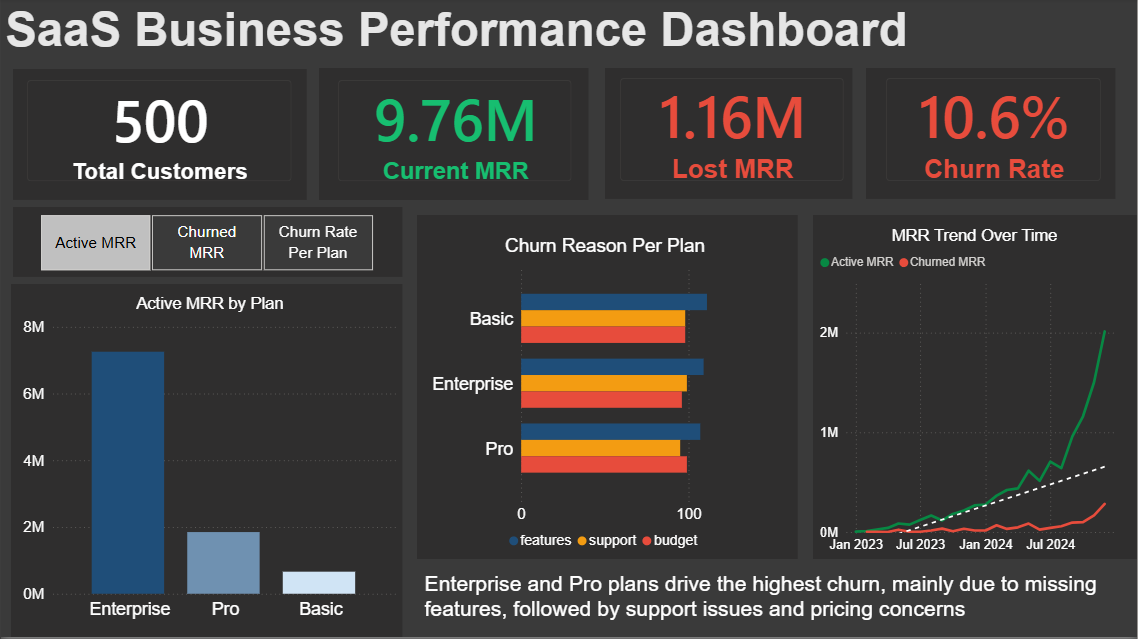

The dashboard page shown, as its layout file describes it:
{"tool":"powerbi","page":{"name":"SaaS Dashboard","canvas":[1280,720],"ordinal":0},"visuals":[{"type":"shape","box":[13.8,235,438.8,78.8],"z":0},{"type":"shape","box":[468.7,244.5,429.3,387.6],"z":1000},{"type":"shape","box":[680,78.8,278.8,147.5],"z":2000},{"type":"shape","box":[13.8,80,331.2,147.5],"z":3000},{"type":"shape","box":[358.8,78.8,303.8,148.8],"z":4000},{"type":"shape","box":[914.9,244.5,365.1,387.6],"z":5000},{"type":"cardVisual","fields":{"Data":["_measures.Active MRR"]},"box":[362.5,75,297.5,148.8],"z":6000},{"type":"shape","box":[11.2,322.5,441.2,398.8],"z":7000},{"type":"cardVisual","fields":{"Data":["_measures.Churned MRR"]},"box":[680,73.8,286.2,150],"z":8000},{"type":"textbox","box":[0,0,1118.5,75.5],"z":9000},{"type":"shape","box":[975,78.8,281.2,147.5],"z":10000},{"type":"cardVisual","fields":{"Data":["_measures.Churn Rate"]},"box":[980,73.8,276.2,150],"z":11000},{"type":"cardVisual","fields":{"Data":["_measures.Total Customers"]},"box":[12.5,75,332.5,148.8],"z":12000},{"type":"columnChart","fields":{"Y":["_measures.Active MRR"],"Category":["ravenstack_subscriptions_fact.Plan"]},"box":[18.8,333.8,432.5,373.8],"z":13000},{"type":"clusteredBarChart","title":"Churn Reason Per Plan","fields":{"Category":["ravenstack_subscriptions_fact.Plan"],"Y":["_measures.Churn Reason Per Plan"],"Series":["Churn Reasons Table.reason_code"]},"box":[472.1,267,416.9,365.1],"z":14000},{"type":"slicer","fields":{"Values":["Plans Parameter.Plans Parameter"]},"box":[18.8,237.5,423.8,76.2],"z":15000},{"type":"lineChart","title":"MRR Trend Over Time","fields":{"Category":["ravenstack_subscriptions_fact.Start_Date.Variation.Date Hierarchy.Year","ravenstack_subscriptions_fact.Start_Date.Variation.Date Hierarchy.Quarter","ravenstack_subscriptions_fact.Start_Date.Variation.Date Hierarchy.Month","ravenstack_subscriptions_fact.Start_Date.Variation.Date Hierarchy.Day"],"Y":["Sum(ravenstack_subscriptions_fact.Monthly Revenue)","_measures.Churned MRR"]},"box":[917.2,256.9,359.4,375.2],"z":16000},{"type":"textbox","box":[472.1,641.1,784.2,66.5],"z":17000}]}

Visuals, with their boxes in screenshot pixels (x1, y1, x2, y2), scaled from the page's 1280x720 canvas onto the 1138x639 screenshot:
shape: 12,209,402,278
shape: 417,217,798,561
shape: 605,70,852,201
shape: 12,71,307,202
shape: 319,70,589,202
shape: 813,217,1137,561
cardVisual - _measures.Active MRR: 322,67,587,199
shape: 10,286,402,638
cardVisual - _measures.Churned MRR: 605,65,859,199
textbox: 0,0,994,67
shape: 867,70,1117,201
cardVisual - _measures.Churn Rate: 871,65,1117,199
cardVisual - _measures.Total Customers: 11,67,307,199
columnChart - _measures.Active MRR x ravenstack_subscriptions_fact.Plan: 17,296,401,628
"Churn Reason Per Plan" clusteredBarChart: 420,237,790,561
slicer - Plans Parameter.Plans Parameter: 17,211,393,278
"MRR Trend Over Time" lineChart: 815,228,1135,561
textbox: 420,569,1117,628
